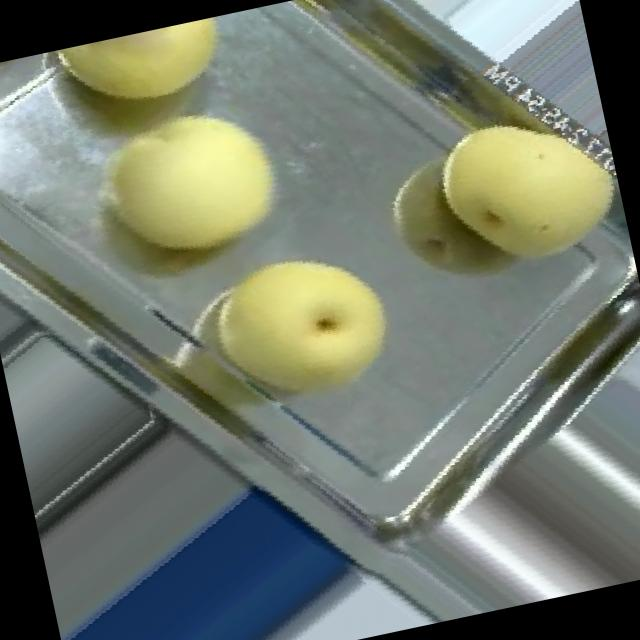Fruit: (55, 67, 313, 310), (180, 215, 420, 438), (418, 85, 632, 290), (25, 8, 264, 148)
